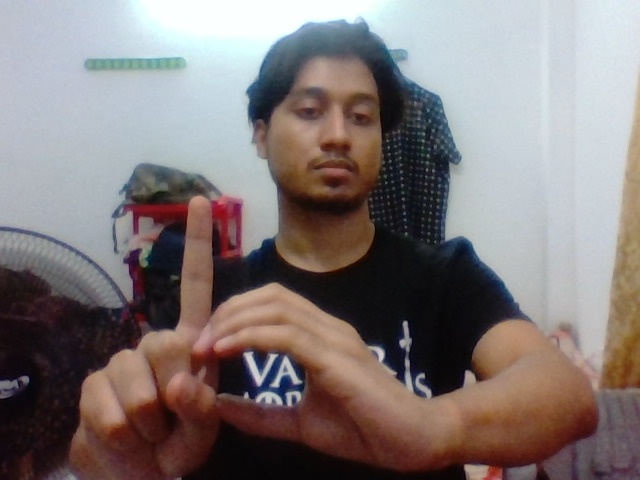D: (130, 183, 329, 443)
